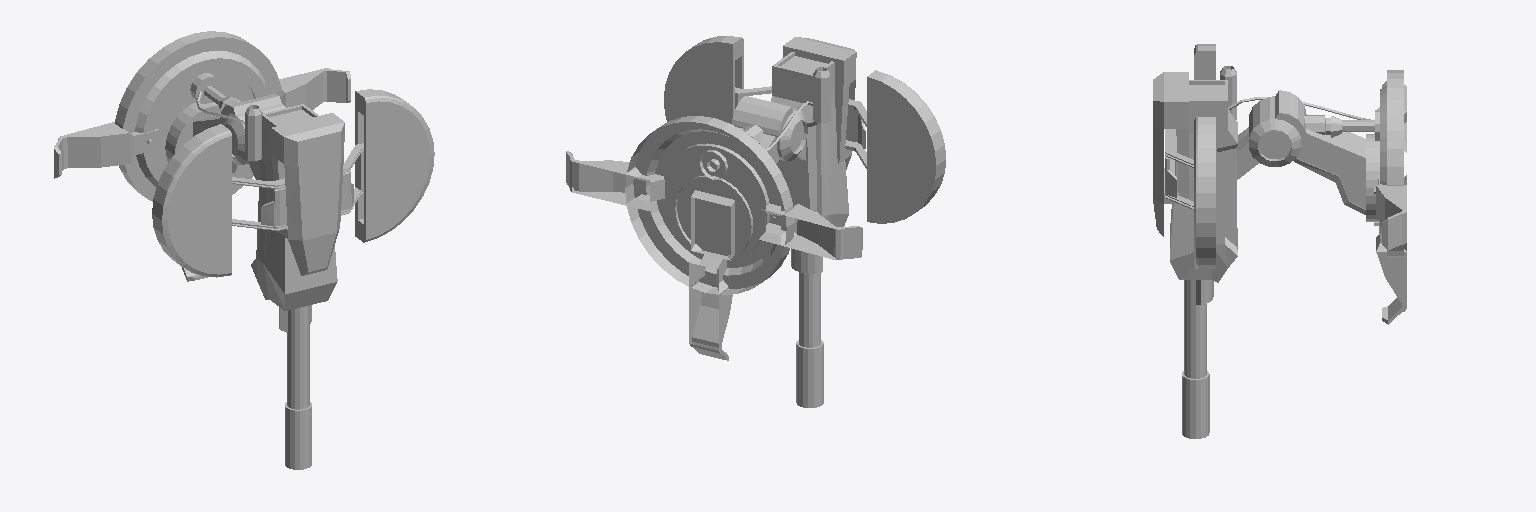
File: turret3.obj
The picture shows the model from 3 angles: view 1: azimuth 30°, elevation 25°; view 2: azimuth 150°, elevation 25°; view 3: azimuth 270°, elevation 25°; orthographic projection.
Parts seen in each view (by area): view 1: Cylinder.002; view 2: Cylinder.002; view 3: Cylinder.002.
Part boxes in pixels (bbox=[...]): Cylinder.002: bbox=[54, 31, 434, 469]; Cylinder.002: bbox=[566, 36, 945, 407]; Cylinder.002: bbox=[1153, 44, 1406, 438].
Bounding box in the file's own units: 6.24 × 7.13 × 4.64.